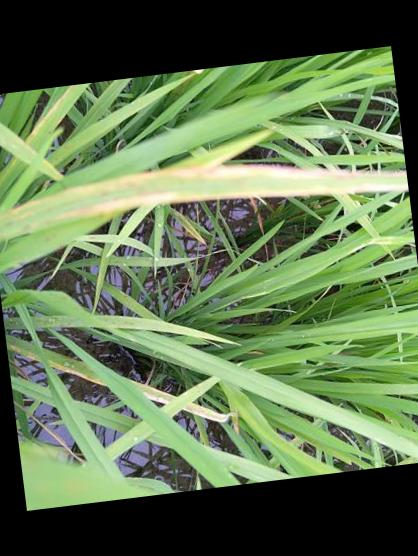Leaf Blight: (0, 163, 409, 241), (42, 348, 105, 385), (131, 381, 173, 404), (182, 402, 227, 423), (9, 338, 40, 361)
